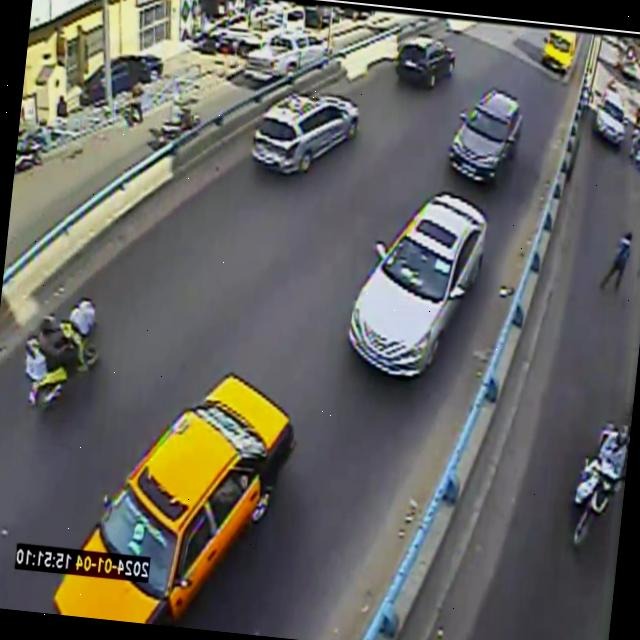car: (54, 375, 295, 625), (349, 193, 487, 376), (252, 94, 359, 172), (449, 88, 522, 181), (244, 29, 327, 81), (395, 35, 455, 88), (542, 28, 576, 72)
